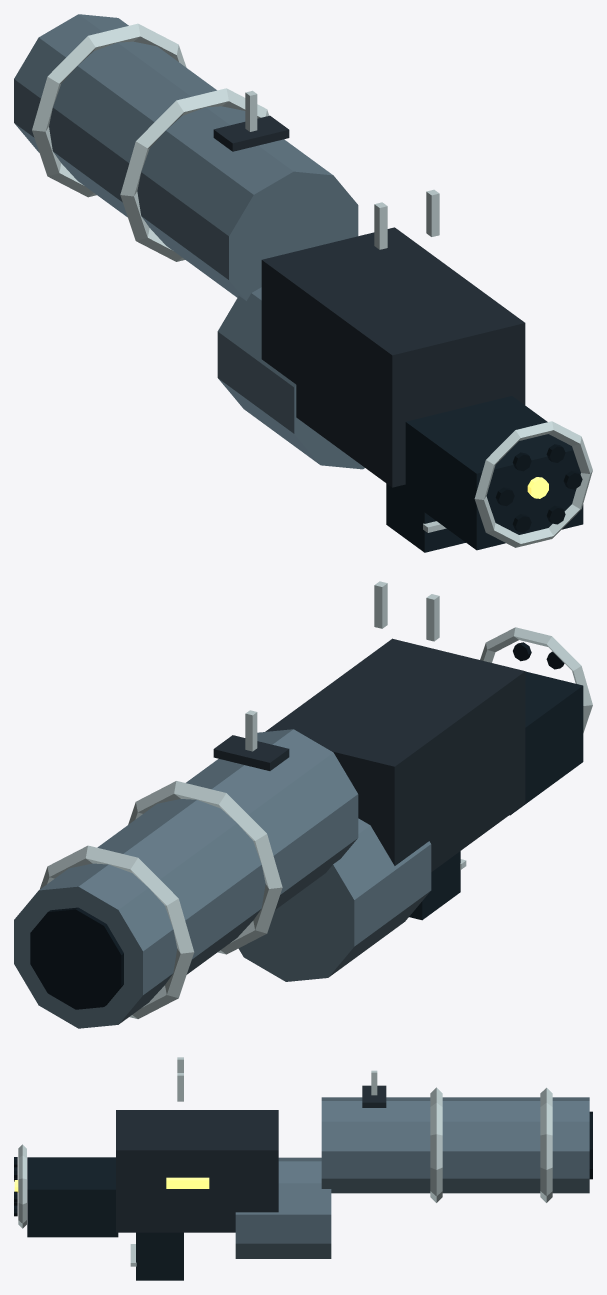
Rendered from world-5.glb.
3 views of the same model, one above another, from view 1: azimuth 30°, elevation 25°; view 2: azimuth 150°, elevation 25°; view 3: azimuth 270°, elevation 25° (orthographic). The views are drawn at different scales.
Visible parts, largest first — view 1: body-dark, barrel-assembly-light, body-rubber, body-trim, feed-light, body-cavity; view 2: barrel-assembly-light, body-dark, feed-light, body-trim, body-rubber, barrel-assembly-cavity; view 3: barrel-assembly-light, body-dark, body-rubber, feed-light, body-trim, body-glow.
Part boxes in pixels (x1,y1,x2,y2): body-dark: (213, 115, 525, 487); barrel-assembly-light: (14, 14, 358, 300); body-rubber: (386, 396, 583, 552); body-trim: (32, 23, 592, 547); feed-light: (217, 287, 364, 469); body-cavity: (495, 444, 582, 532); barrel-assembly-light: (14, 729, 358, 1028); body-dark: (213, 638, 525, 871); feed-light: (238, 818, 431, 981); body-trim: (39, 581, 592, 1018); body-rubber: (409, 671, 583, 920); barrel-assembly-cavity: (30, 907, 123, 1009); barrel-assembly-light: (321, 1097, 589, 1193); body-dark: (116, 1085, 386, 1232); body-rubber: (27, 1157, 183, 1280); feed-light: (235, 1157, 331, 1258); body-trim: (18, 1057, 552, 1266); body-glow: (14, 1177, 209, 1192).
Size of the model in its own units: 0.244 by 0.4645 by 1.21.
